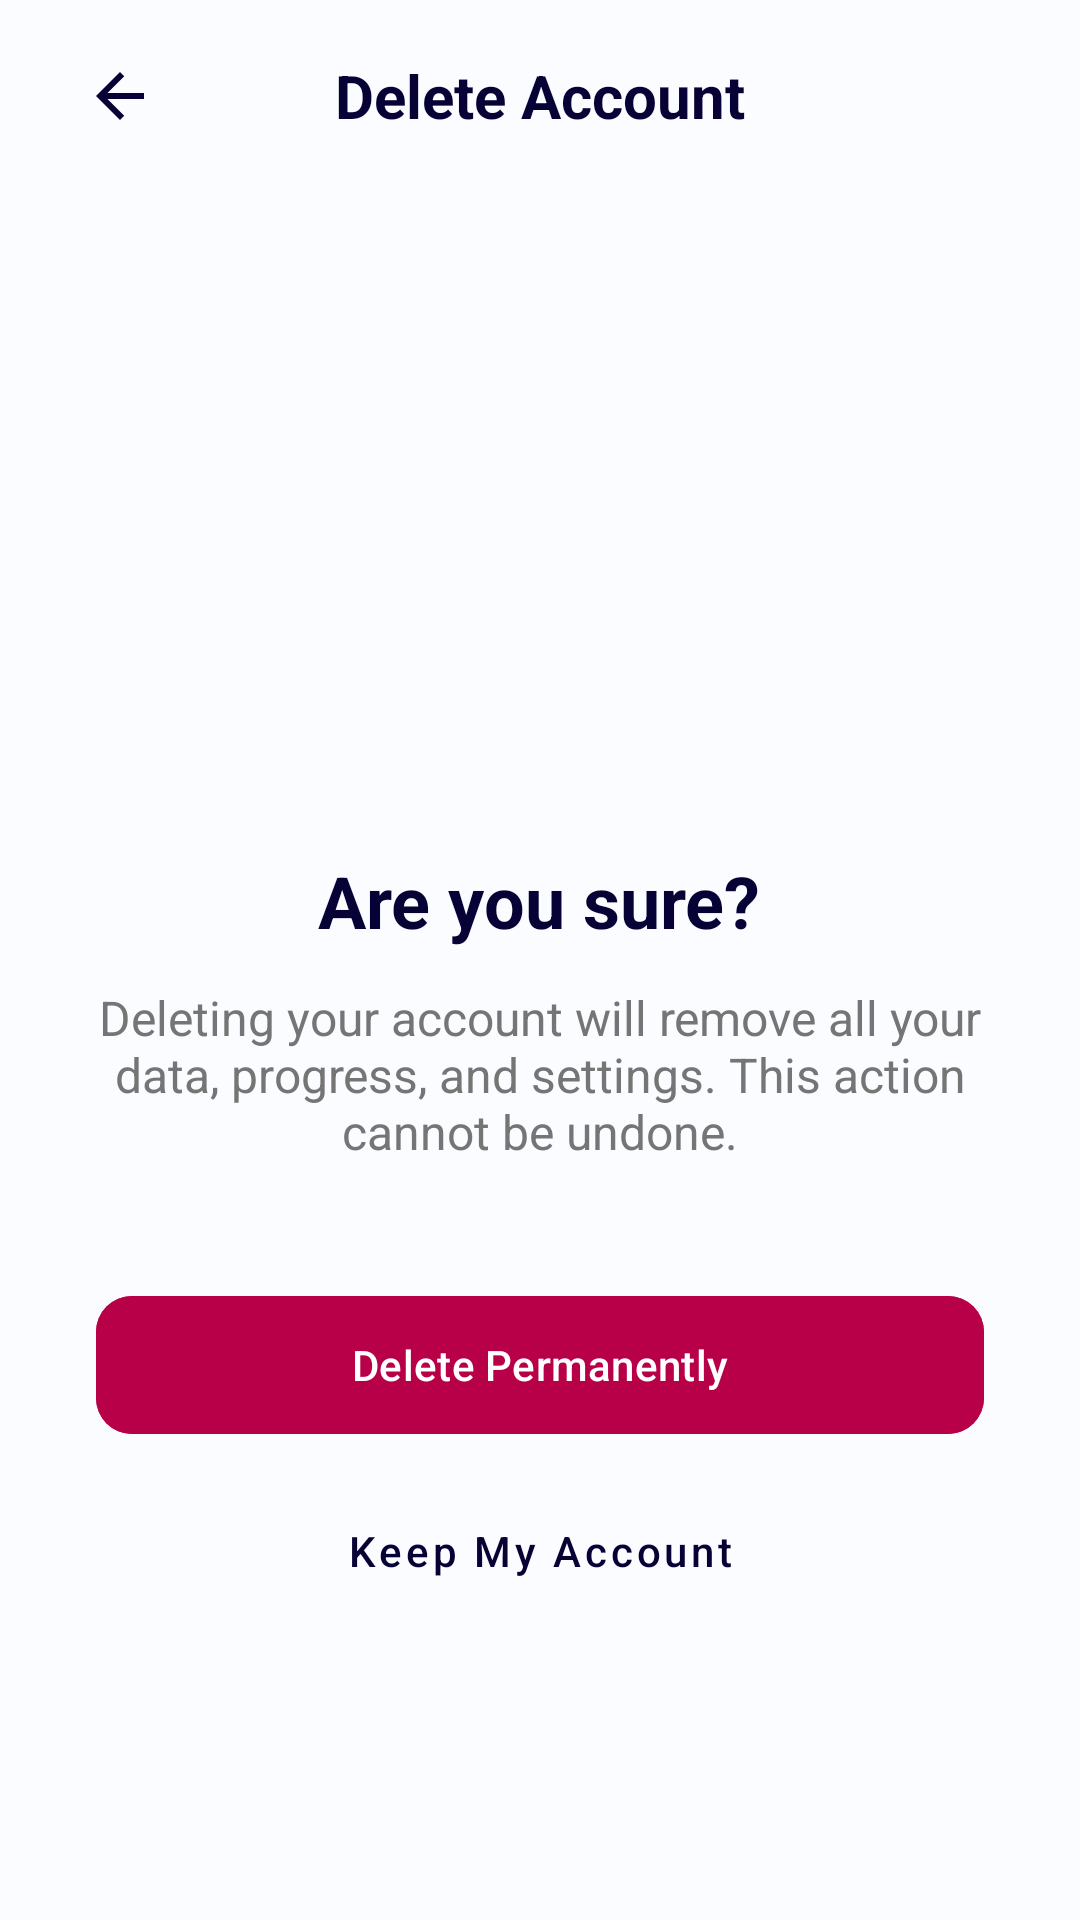

Where icons sit on this 1080 x 1920 app screen, as [left=x1, top=y1, right=x2, bottom=y2]:
arrow back: [left=96, top=72, right=144, bottom=120]
